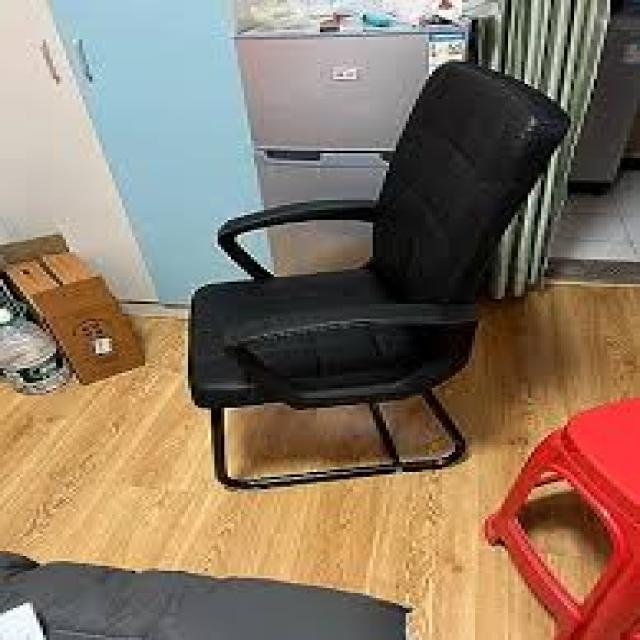chair: (82, 49, 592, 511)
